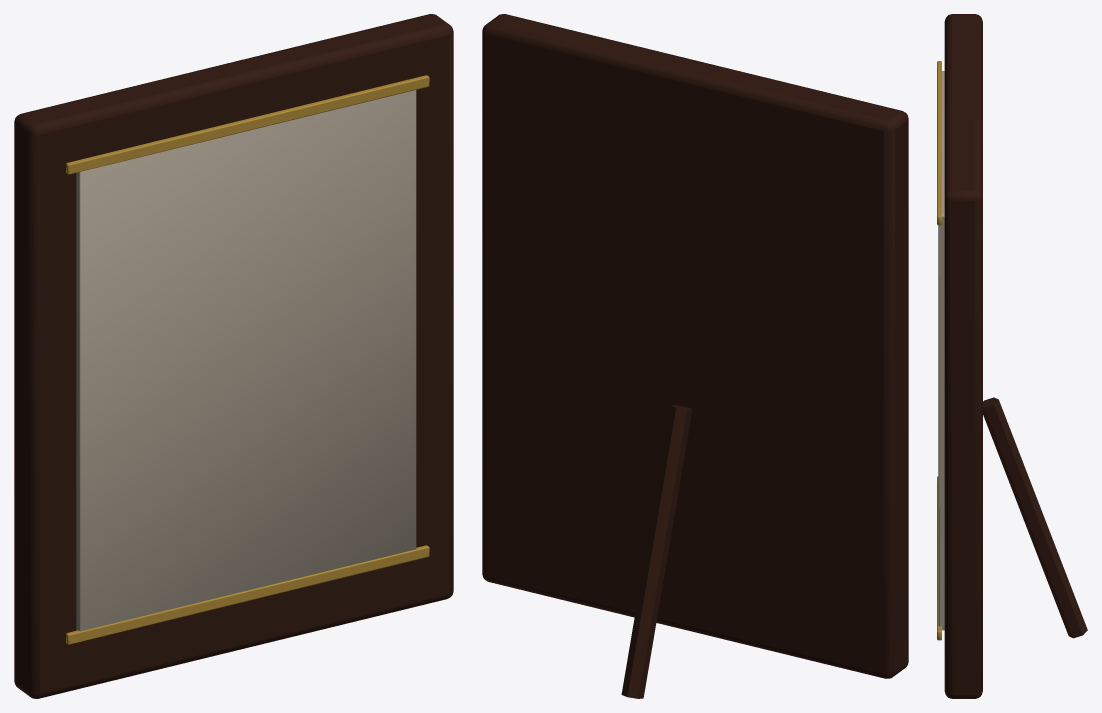
File: di_anh.glb
The picture shows the model from 3 angles, left to right: view 1: azimuth 30°, elevation 25°; view 2: azimuth 150°, elevation 25°; view 3: azimuth 270°, elevation 25°; orthographic projection. The views are drawn at different scales.
Parts seen in each view (by area): view 1: di_anh; view 2: di_anh; view 3: di_anh.
Boxes of the visible parts, x1,y1,x2,y2 form: di_anh: (14, 14, 453, 698); di_anh: (482, 14, 908, 698); di_anh: (937, 14, 1087, 698).
Bounding box in the file's own units: 0.34 × 0.4626 × 0.1185.
